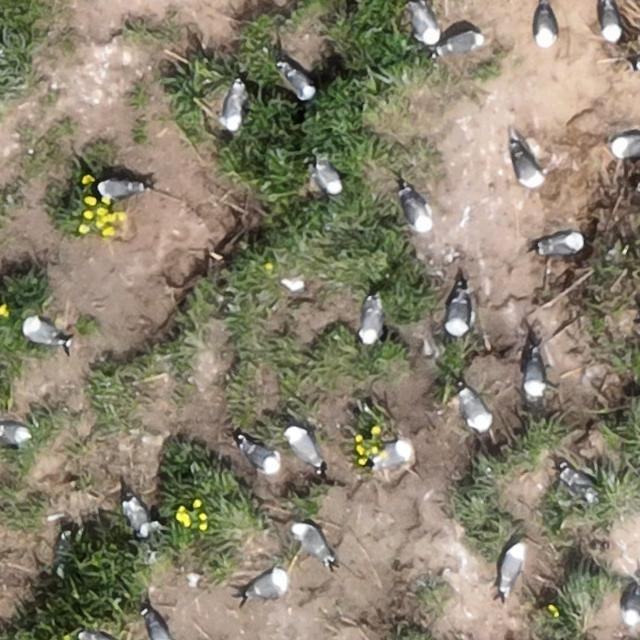umineko: (462, 391, 491, 430), (289, 430, 319, 467), (297, 527, 329, 561), (501, 546, 524, 592), (284, 66, 314, 100), (515, 150, 543, 186), (247, 572, 285, 598), (563, 469, 595, 499), (446, 291, 469, 332), (376, 440, 412, 466), (536, 5, 558, 47), (244, 443, 278, 470), (24, 320, 61, 344), (414, 6, 438, 43), (361, 300, 382, 342), (540, 232, 580, 254), (405, 196, 429, 232), (440, 33, 479, 55), (224, 84, 243, 128), (602, 4, 623, 42), (125, 500, 148, 534), (524, 354, 544, 392), (611, 132, 640, 157), (100, 180, 140, 198), (316, 164, 339, 194), (148, 615, 171, 640), (1, 424, 28, 444), (624, 586, 639, 621)
